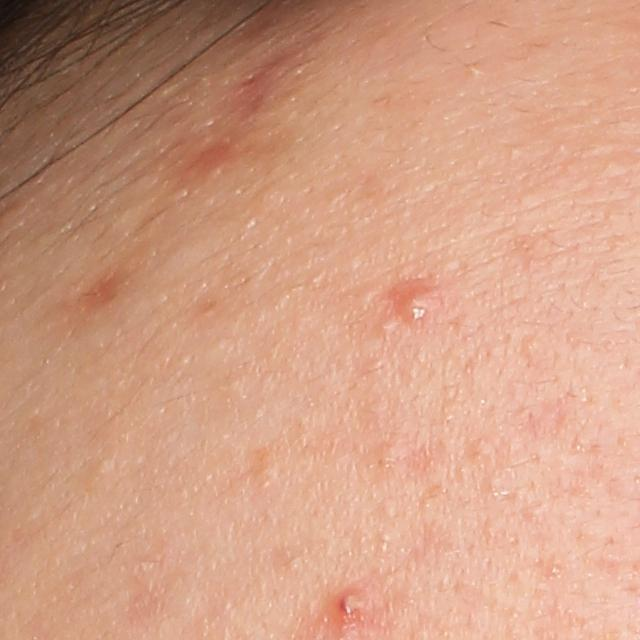comedo: (255, 450, 284, 488), (371, 444, 397, 472), (280, 553, 308, 578), (520, 333, 545, 360), (378, 498, 400, 523), (91, 454, 115, 476), (547, 562, 561, 576)
pustule: (395, 282, 444, 325)
